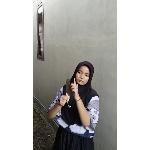Pisau: (64, 76, 74, 110)
